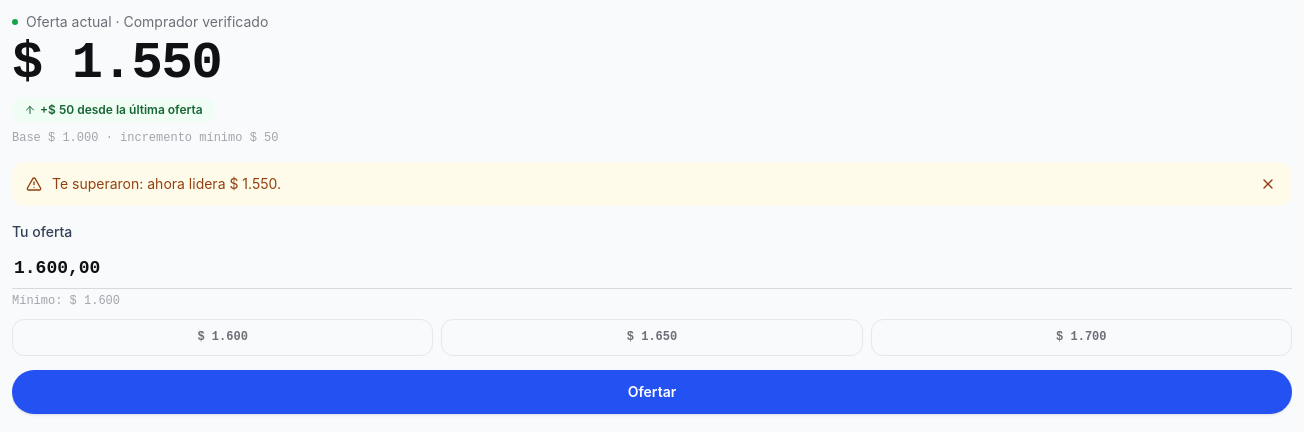
Scenario: SalaBidPanel › aviso "Te superaron" › el aviso se puede cerrar
Click the button named "Cerrar aviso" at (1268, 184), box [1258,174,1278,194]
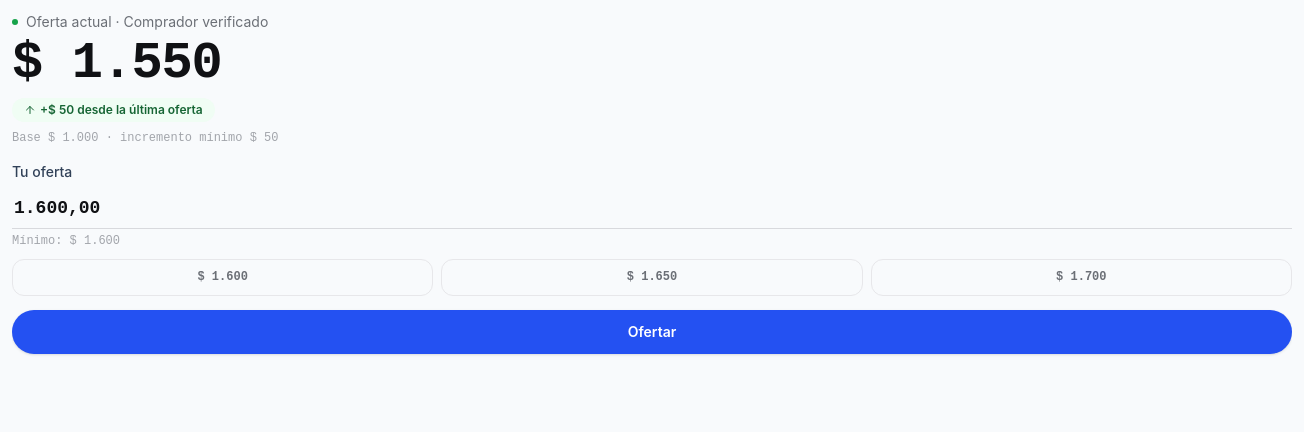
Expected: the message "Te superaron: ahora lidera $ 1.550." is gone
